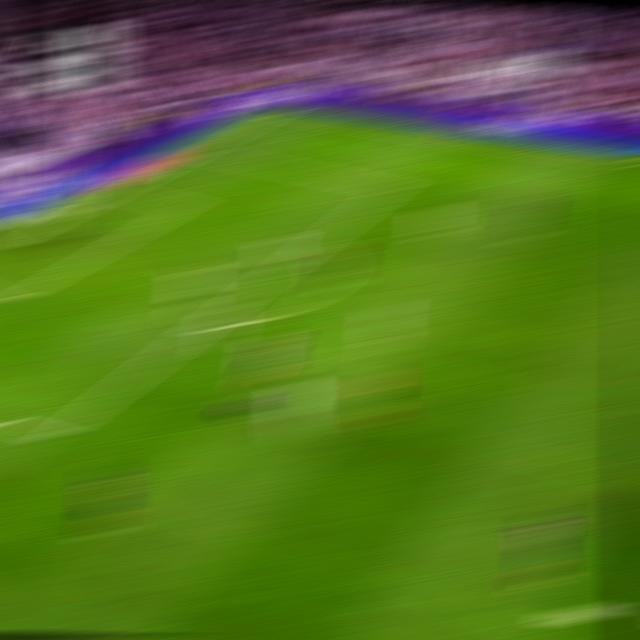bigarea_bottom_inner: (38, 422, 70, 447)
bigarea_top_inner: (377, 180, 404, 192)
bigarea_top_outter: (187, 144, 216, 156)
bottom_arc_area_intersection: (187, 317, 218, 335)
corner: (268, 109, 294, 112)
smallarea_bottom_inner: (0, 290, 25, 309)
smallarea_top_inner: (170, 200, 196, 209)
top_arc_area_intersection: (301, 234, 331, 249)
